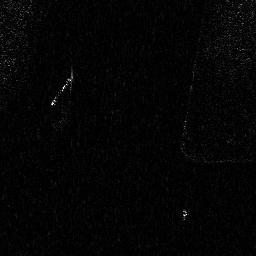ship: (50, 75, 74, 105)
